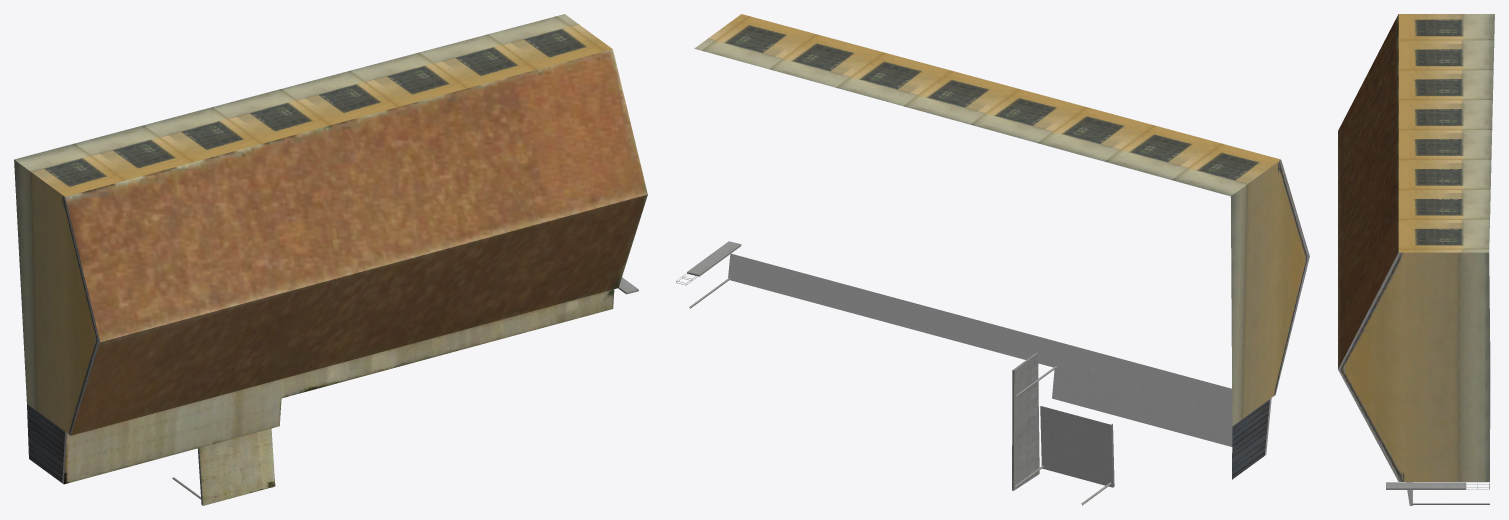
3 renders of one model, left to right at view 1: azimuth 30°, elevation 25°; view 2: azimuth 150°, elevation 25°; view 3: azimuth 270°, elevation 25°, orthographic. The views are drawn at different scales.
Parts seen in each view (by area): view 1: Group_MatrixTransform_i96017_Geometry_9, Group_MatrixTransform_i96017_Geometry_10, Group_MatrixTransform_i96017_Geometry_8, Group_MatrixTransform_i96017_Geometry_3, Group_MatrixTransform_i96017_Geometry_7, Group_MatrixTransform_i96017_Geometry_4; view 2: Group_MatrixTransform_i96017_Geometry_10, Group_MatrixTransform_i96017_Geometry_14, Group_MatrixTransform_i96017_Geometry_3, Group_MatrixTransform_i96017_Geometry_2, Group_MatrixTransform_i96017_Geometry_4, Group_MatrixTransform_i96017_Geometry_12; view 3: Group_MatrixTransform_i96017_Geometry_3, Group_MatrixTransform_i96017_Geometry_10, Group_MatrixTransform_i96017_Geometry_9, Group_MatrixTransform_i96017_Geometry_12.
Boxes of the visible parts, x1=… form: Group_MatrixTransform_i96017_Geometry_9: x1=65, y1=49, x2=647, y2=435; Group_MatrixTransform_i96017_Geometry_10: x1=14, y1=14, x2=612, y2=196; Group_MatrixTransform_i96017_Geometry_8: x1=64, y1=289, x2=614, y2=484; Group_MatrixTransform_i96017_Geometry_3: x1=14, y1=160, x2=99, y2=435; Group_MatrixTransform_i96017_Geometry_7: x1=199, y1=428, x2=275, y2=505; Group_MatrixTransform_i96017_Geometry_4: x1=27, y1=404, x2=64, y2=482; Group_MatrixTransform_i96017_Geometry_10: x1=694, y1=14, x2=1280, y2=196; Group_MatrixTransform_i96017_Geometry_14: x1=728, y1=253, x2=1232, y2=487; Group_MatrixTransform_i96017_Geometry_3: x1=1230, y1=160, x2=1309, y2=426; Group_MatrixTransform_i96017_Geometry_2: x1=1012, y1=352, x2=1039, y2=490; Group_MatrixTransform_i96017_Geometry_4: x1=1232, y1=399, x2=1269, y2=479; Group_MatrixTransform_i96017_Geometry_12: x1=687, y1=241, x2=1111, y2=505; Group_MatrixTransform_i96017_Geometry_3: x1=1338, y1=252, x2=1490, y2=481; Group_MatrixTransform_i96017_Geometry_10: x1=1398, y1=14, x2=1494, y2=252; Group_MatrixTransform_i96017_Geometry_9: x1=1338, y1=14, x2=1398, y2=368; Group_MatrixTransform_i96017_Geometry_12: x1=1386, y1=482, x2=1489, y2=504.
Size of the model in its own units: 31.18 by 19.65 by 7.93.
17 materials, 17 textured.
